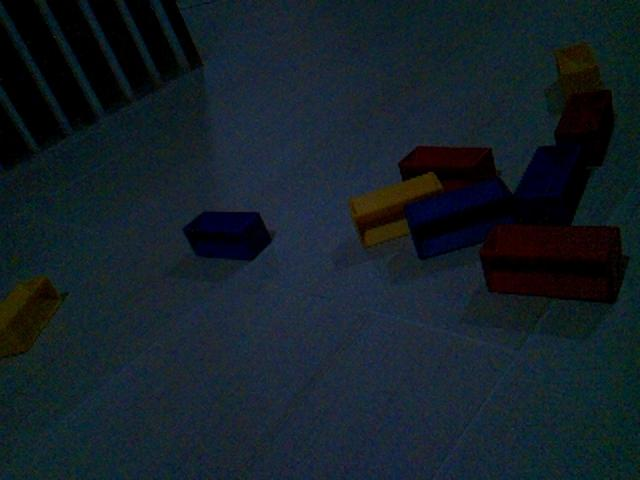blue: (405, 176, 514, 261), (513, 144, 592, 227), (183, 211, 274, 263)
red: (480, 225, 627, 305), (554, 90, 616, 167), (398, 146, 498, 193)
yellow: (349, 171, 446, 249), (1, 273, 63, 359), (555, 40, 604, 104)
